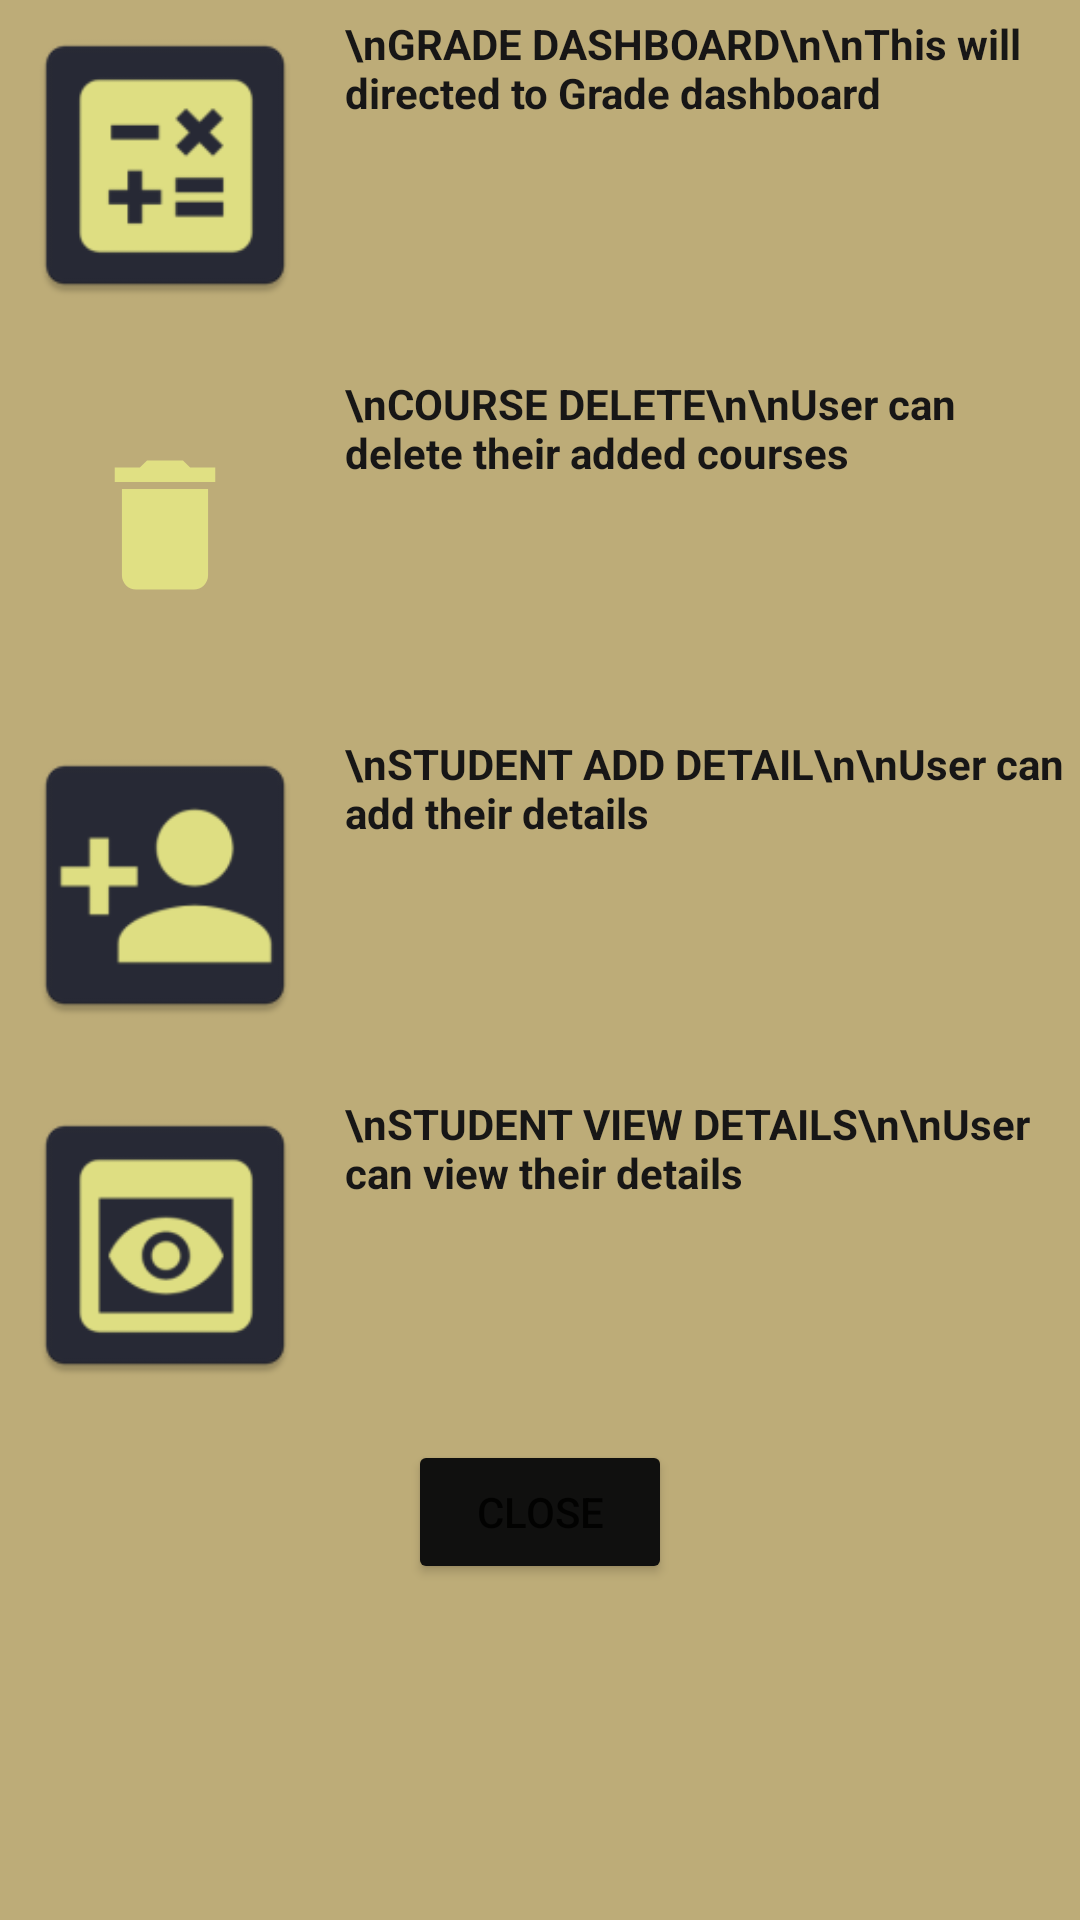

Point at icon controls on the screen. Image size 1080px x 1920px, points as (x=x, y=y).
admin delete: (x=165, y=525)
std area addstddetailimage: (x=165, y=887)
std area gradecalimage: (x=165, y=167)
std area viewstddetail: (x=165, y=1247)
